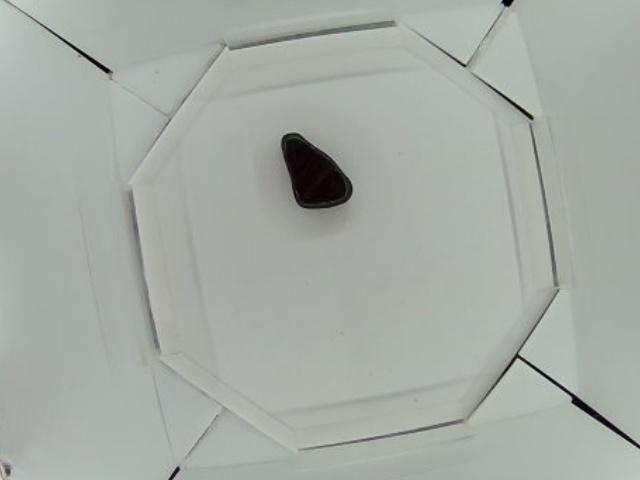Pebble: (281, 134, 355, 210)
